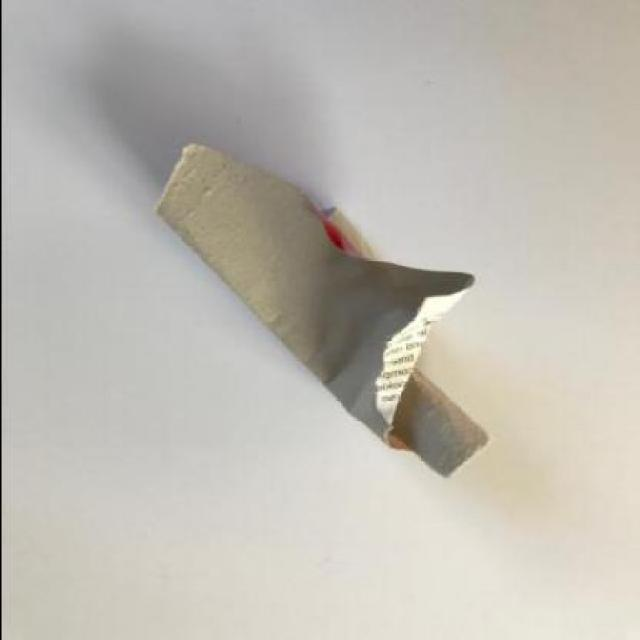box: (153, 100, 499, 518)
